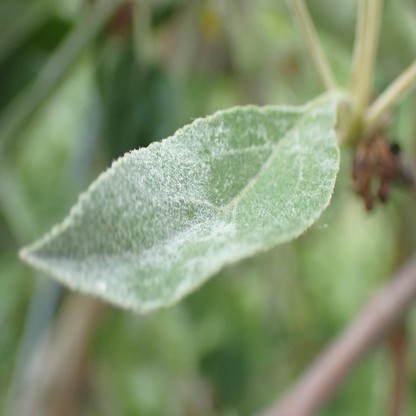powder: (16, 93, 340, 314)
